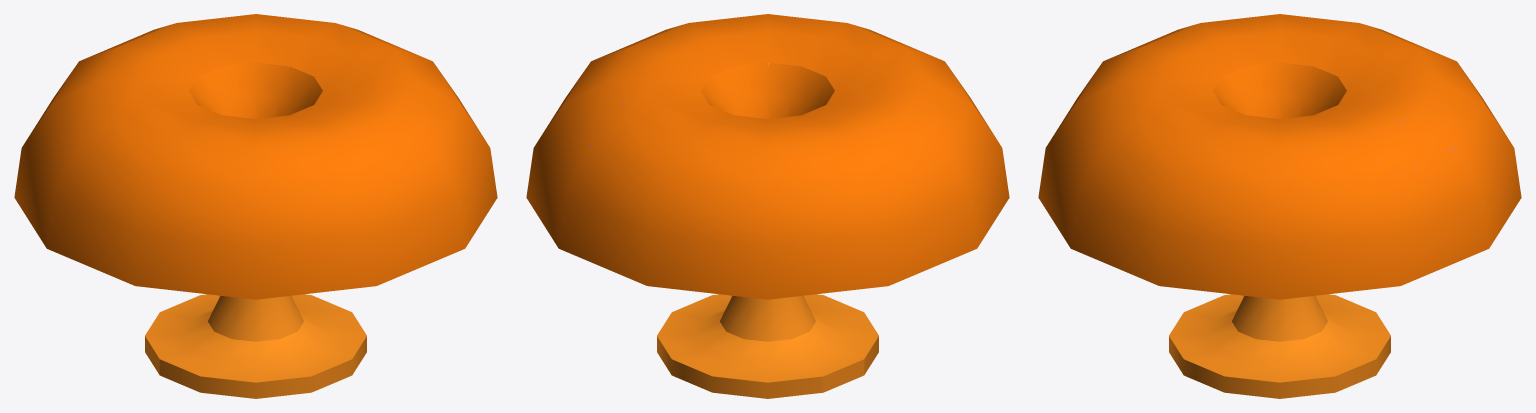
File: LamparaNaranja.fbx
3 renders of one model, left to right at view 1: azimuth 30°, elevation 25°; view 2: azimuth 150°, elevation 25°; view 3: azimuth 270°, elevation 25°, orthographic.
Parts seen in each view (by area): view 1: Plano; view 2: Plano; view 3: Plano.
Boxes of the visible parts, x1=… form: Plano: x1=14, y1=14, x2=497, y2=398; Plano: x1=526, y1=14, x2=1009, y2=398; Plano: x1=1038, y1=14, x2=1521, y2=398.
Bounding box in the file's own units: 34.66 × 21.61 × 34.66.
